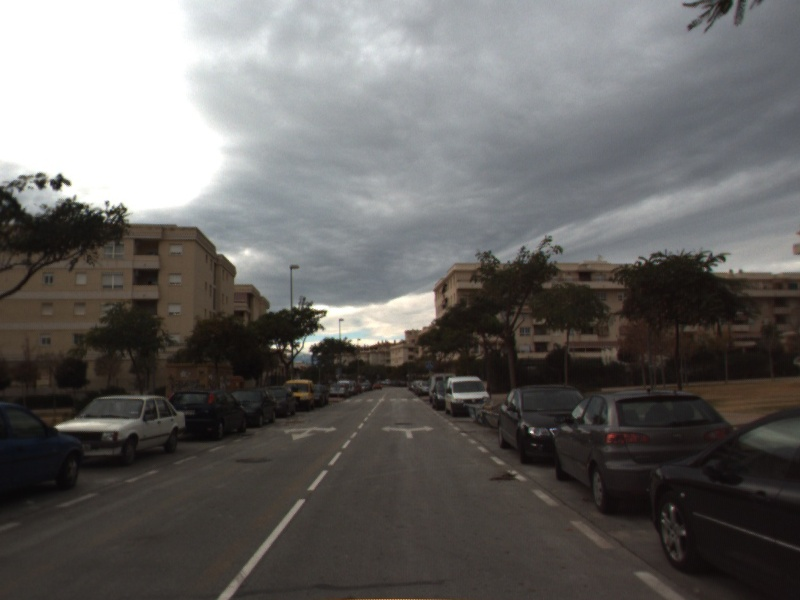LEFT_RIGHT: (379, 422, 437, 441)
